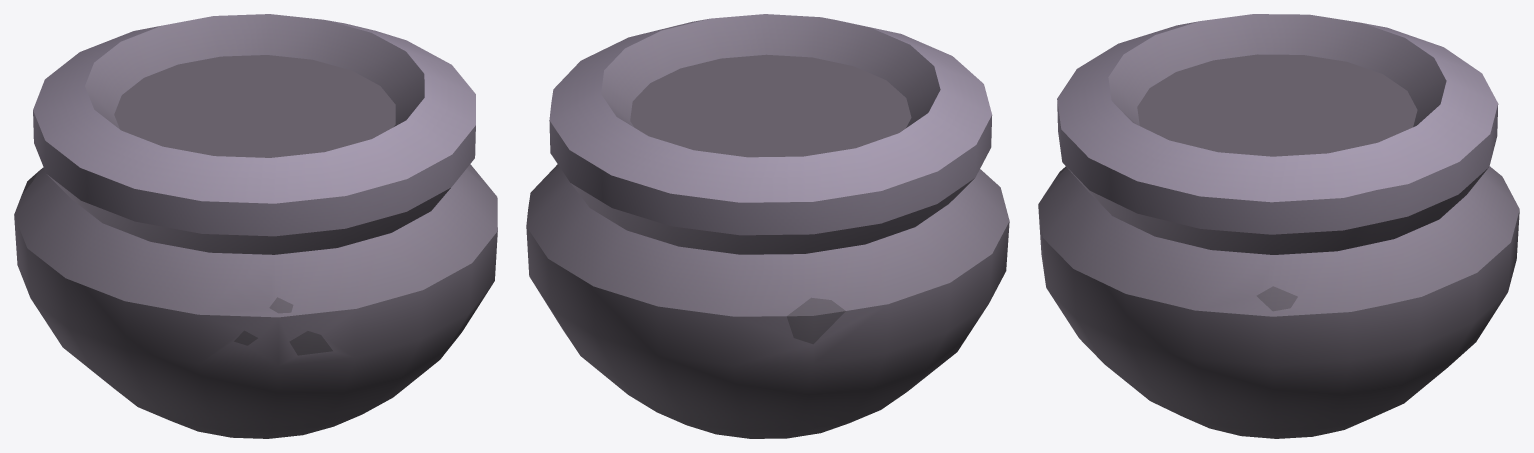
Rendered from pot_1.glb.
3 renders of one model, left to right at view 1: azimuth 30°, elevation 25°; view 2: azimuth 150°, elevation 25°; view 3: azimuth 270°, elevation 25°, orthographic.
Parts seen in each view (by area): view 1: pot_1; view 2: pot_1; view 3: pot_1.
Part boxes in pixels (x1,y1,x2,y2): pot_1: [14, 14, 497, 438]; pot_1: [526, 14, 1009, 438]; pot_1: [1038, 14, 1519, 438].
Size of the model in its own units: 1.66 by 1.22 by 1.66.
1 material, 1 textured.
